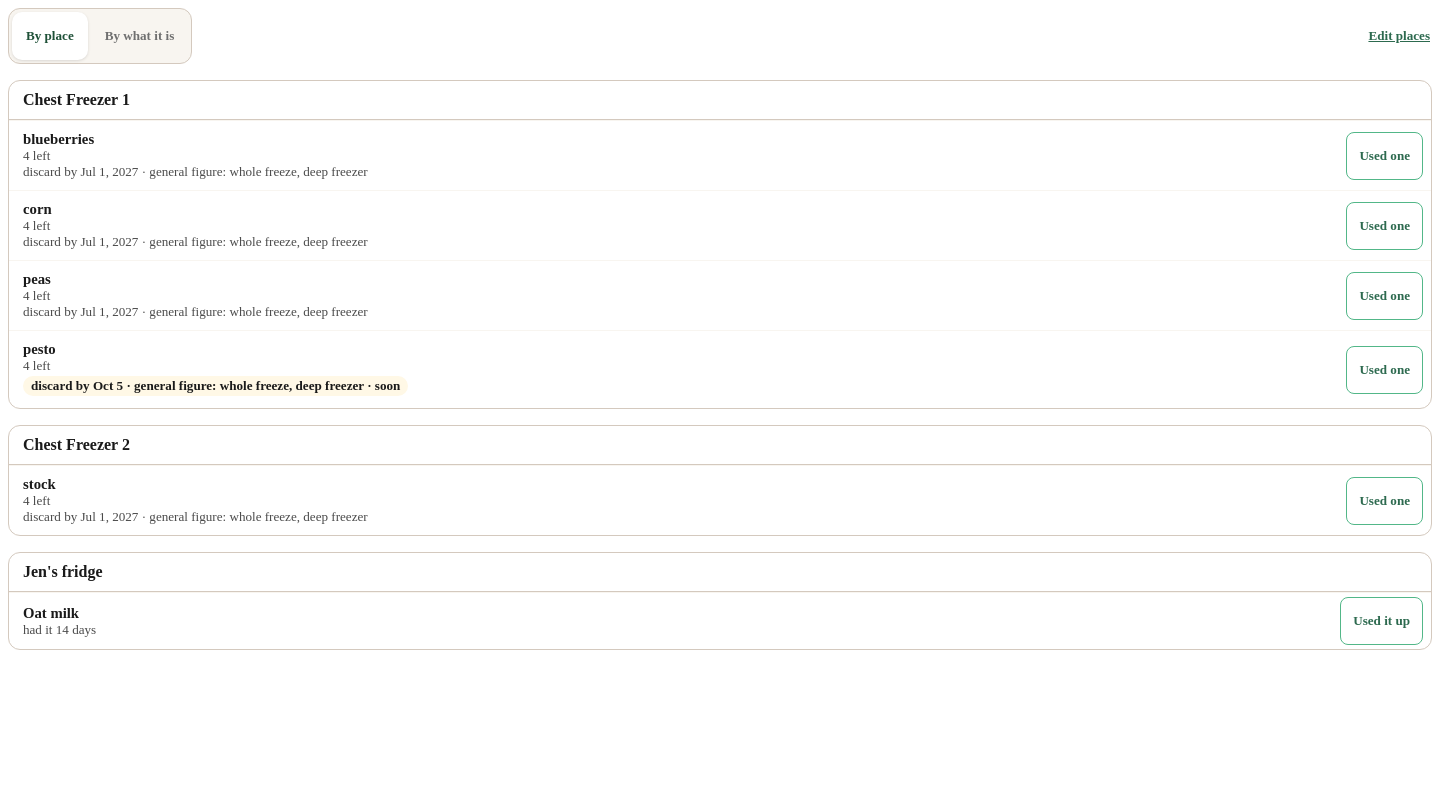
Scenario: the list › the sheet reads the places itself when it opens: one more GET, and a place made since the Pantry mounted is there
Click the button with test id "pantry-edit-places" at coordinates (1399, 36), box 1366,12 -> 1432,60
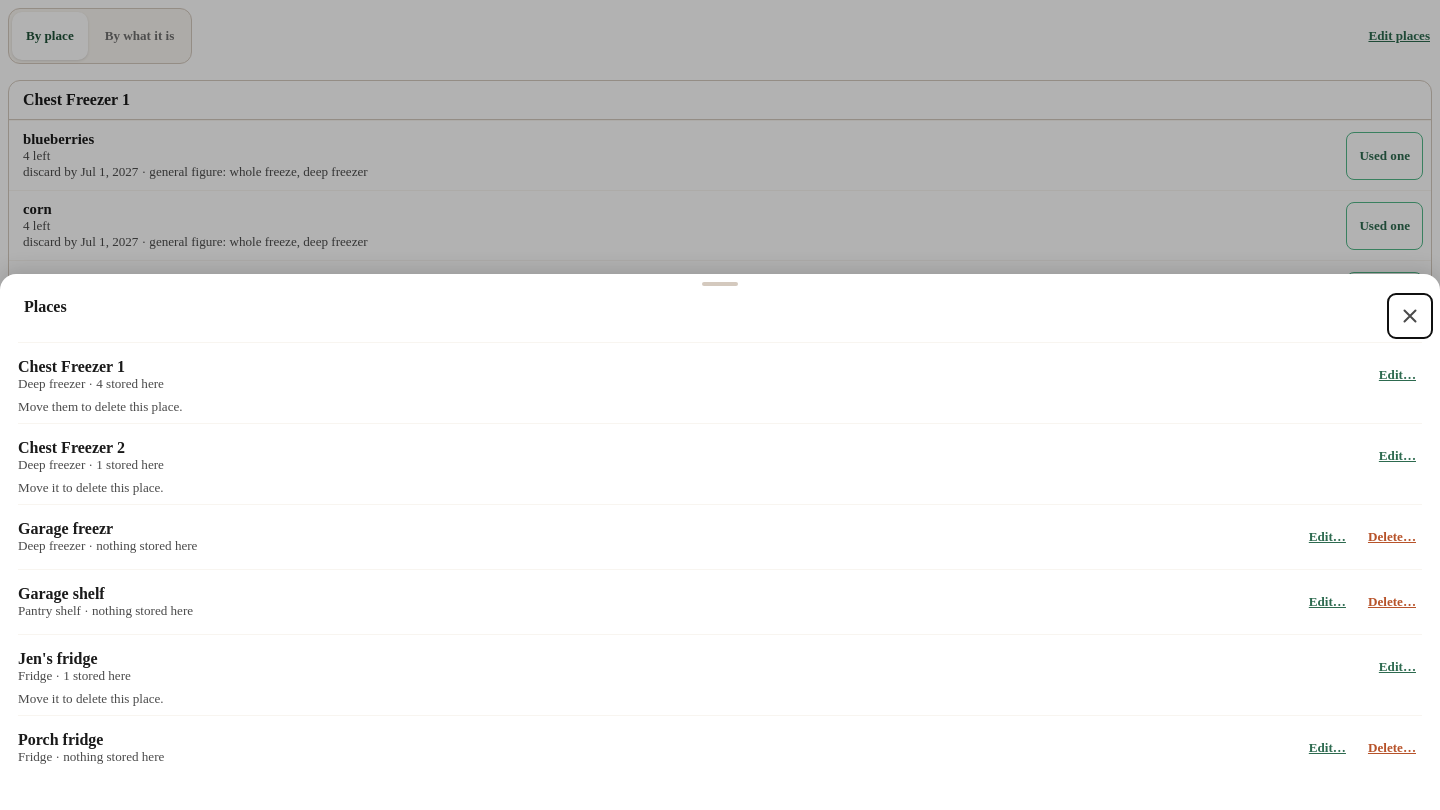
Check: the number of list items with test id "pu-location-row" is 6, box 18,342 -> 1422,423; 18,423 -> 1422,504; 18,504 -> 1422,569; 18,569 -> 1422,634; 18,634 -> 1422,715; 18,715 -> 1422,780
Check: the text "Porch fridge" is shown, box 18,731 -> 104,748
